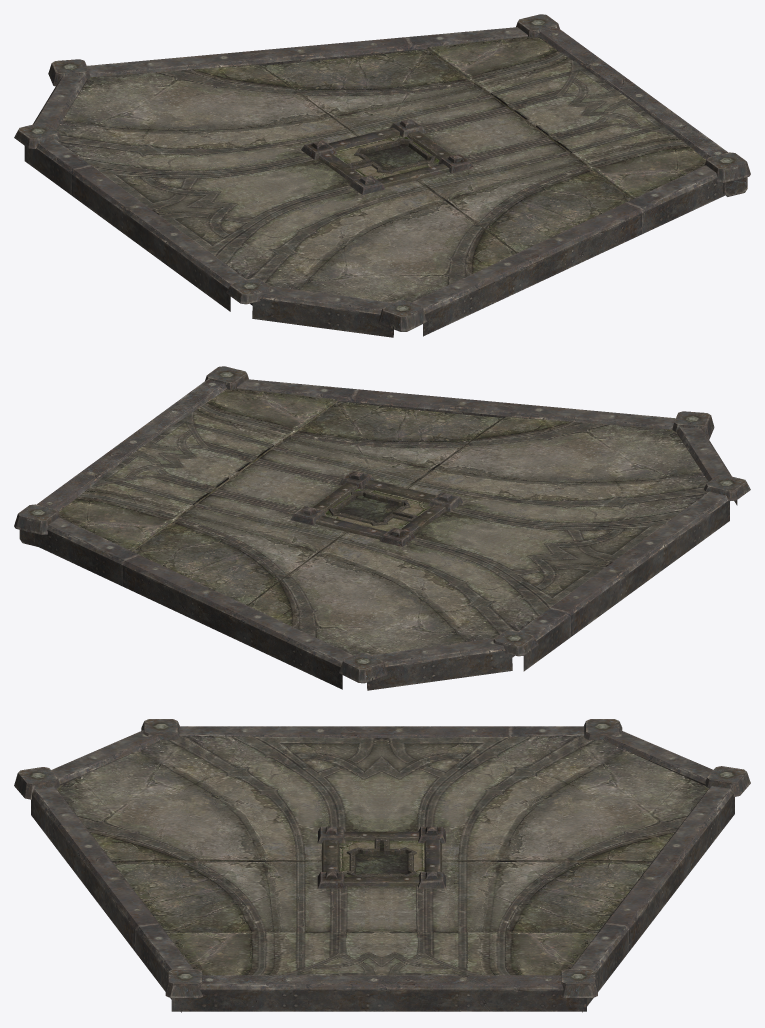
Rendered from bg_lut_lutomb_floordoor01_sm_old.FBX.
The picture shows the model from 3 angles, top to bottom: view 1: azimuth 30°, elevation 25°; view 2: azimuth 150°, elevation 25°; view 3: azimuth 270°, elevation 25°; orthographic projection. The views are drawn at different scales.
Visible parts, largest first — view 1: bg_lut_lutomb_floordoor01_sm_old; view 2: bg_lut_lutomb_floordoor01_sm_old; view 3: bg_lut_lutomb_floordoor01_sm_old.
Boxes of the visible parts, x1=… form: bg_lut_lutomb_floordoor01_sm_old: x1=14, y1=14, x2=750, y2=337; bg_lut_lutomb_floordoor01_sm_old: x1=14, y1=366, x2=750, y2=690; bg_lut_lutomb_floordoor01_sm_old: x1=14, y1=719, x2=750, y2=1012.
Bounding box in the file's own units: 1229 × 74.94 × 1444.
